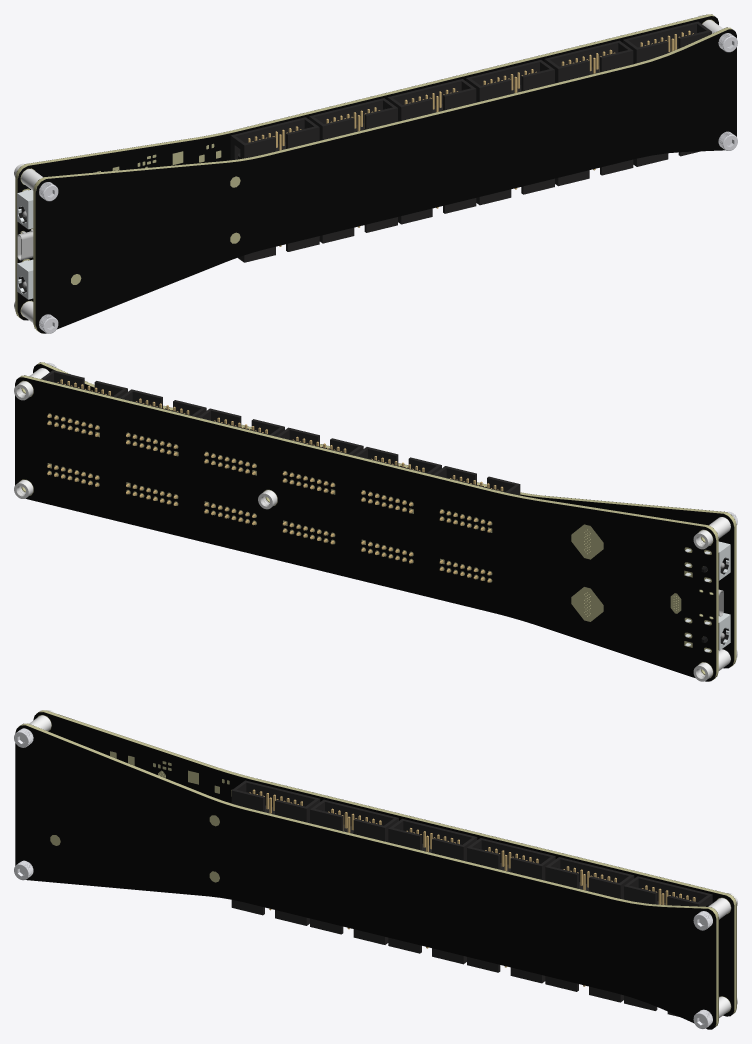
File: decoy.glb
The picture shows the model from 3 angles, top to bottom: view 1: azimuth 30°, elevation 25°; view 2: azimuth 150°, elevation 25°; view 3: azimuth 330°, elevation 25°; orthographic projection.
Parts seen in each view (by area): view 1: Solid1 (×15), Solid2 (×2); view 2: Solid1 (×10); view 3: Solid1 (×15).
Part boxes in pixels (bbox=[...]): Solid1 (×15): bbox=[15, 14, 736, 333]; Solid2 (×2): bbox=[17, 189, 33, 299]; Solid1 (×10): bbox=[15, 362, 736, 681]; Solid1 (×15): bbox=[15, 710, 736, 1029].
Bounding box in the file's own units: 0.2613 × 0.055 × 0.0192.
